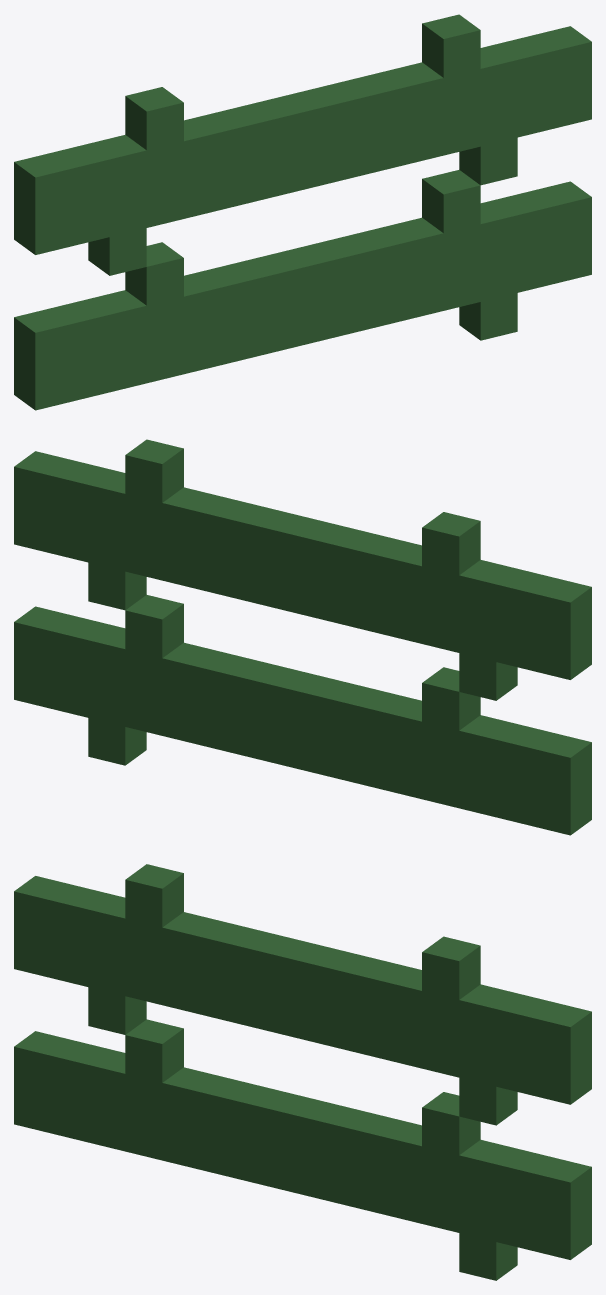
File: MazeGreen1FloorRight.vox.obj
3 views of the same model, one above another, from view 1: azimuth 30°, elevation 25°; view 2: azimuth 150°, elevation 25°; view 3: azimuth 330°, elevation 25° (orthographic).
Size of the model in its own units: 1.5 by 0.8 by 0.1.
Materials: 1 (1 with a texture image).
